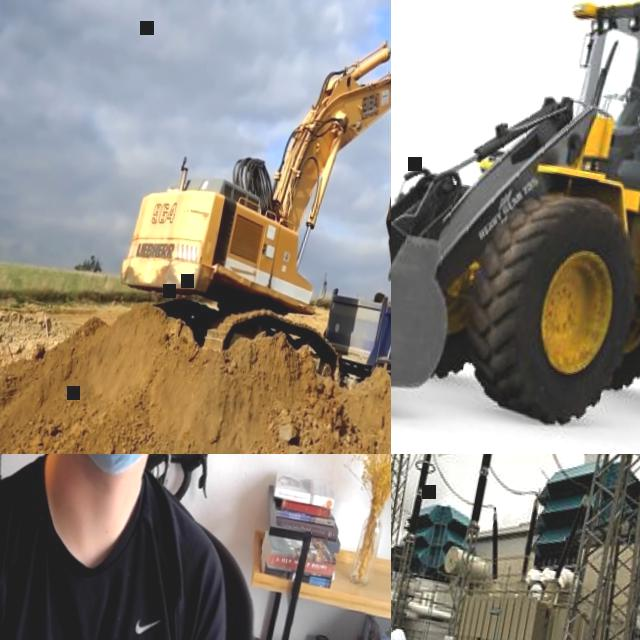helmet: (391, 622, 416, 640)
machinery: (391, 0, 640, 454), (110, 0, 391, 394), (317, 272, 391, 406)
no_vest: (0, 454, 207, 640)
person: (0, 454, 324, 640)
